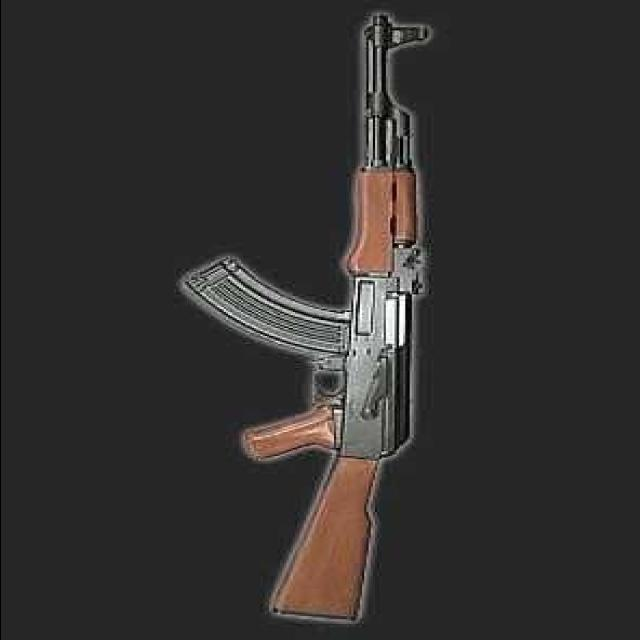heavyweapon: (183, 1, 490, 630)
